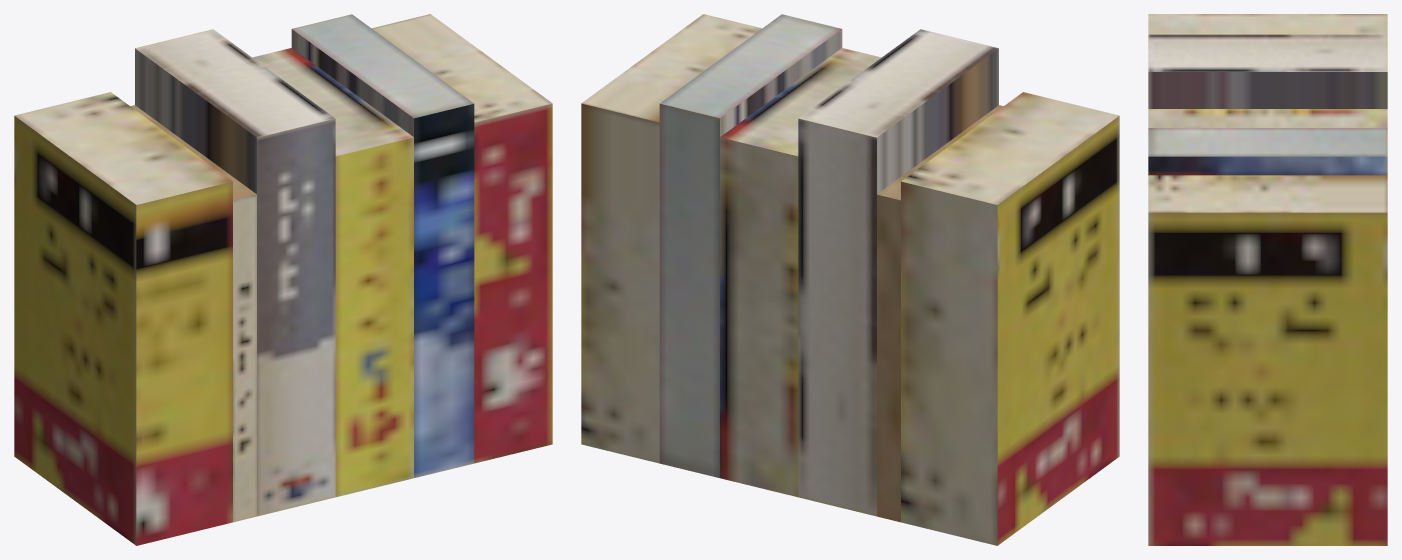
File: BookStack01a.obj
The picture shows the model from 3 angles, left to right: view 1: azimuth 30°, elevation 25°; view 2: azimuth 150°, elevation 25°; view 3: azimuth 270°, elevation 25°; orthographic projection. The views are drawn at different scales.
Parts seen in each view (by area): view 1: BookStack01a; view 2: BookStack01a; view 3: BookStack01a.
Part boxes in pixels (left/top/right/bottom): BookStack01a: left=14, top=14, right=552, bottom=545; BookStack01a: left=581, top=14, right=1119, bottom=545; BookStack01a: left=1148, top=14, right=1387, bottom=545.
Bounding box in the file's own units: 0.575 × 0.5 × 0.2925.
